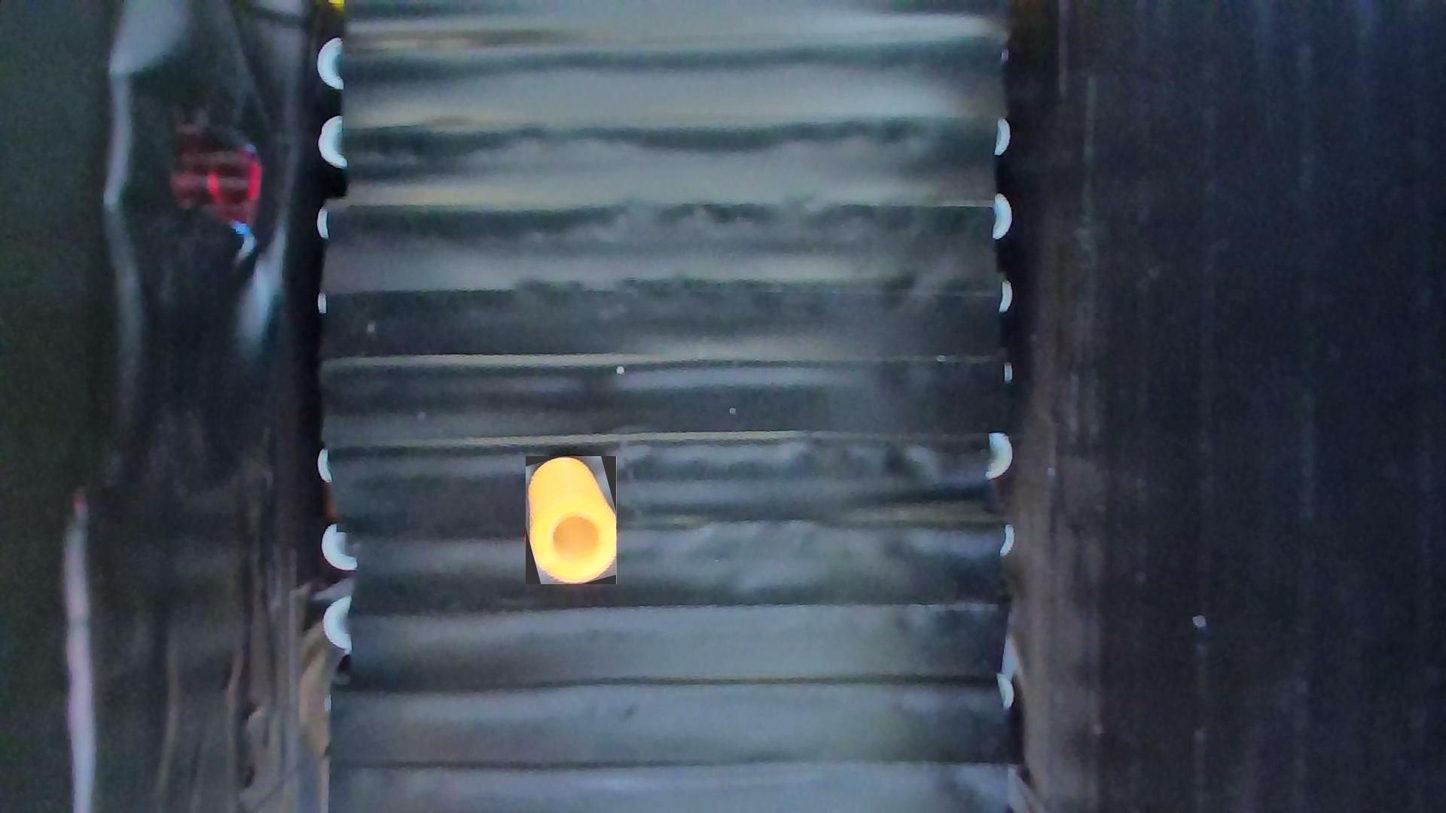spring: (526, 456, 617, 584)
